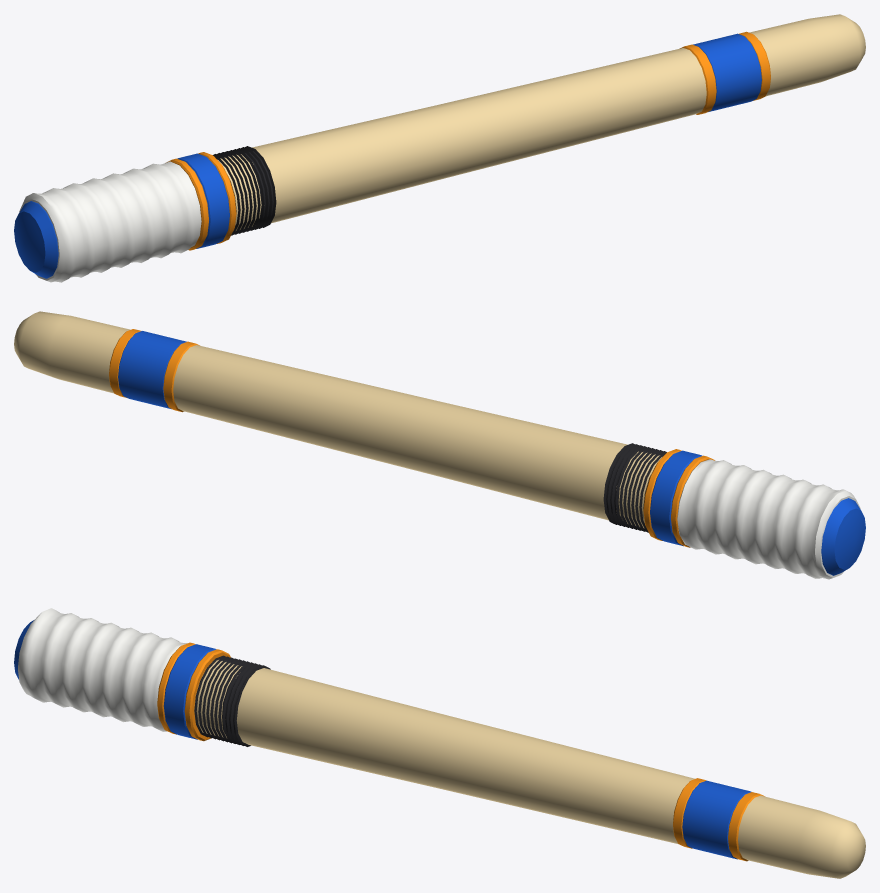
File: danda-cricket.glb
The picture shows the model from 3 angles, top to bottom: view 1: azimuth 30°, elevation 25°; view 2: azimuth 150°, elevation 25°; view 3: azimuth 330°, elevation 25°; orthographic projection.
Visible parts, largest first — view 1: DandaCricket_Willow, DandaCricket_Tape, DandaCricket_Band, DandaCricket_Twine, DandaCricket_Stripe; view 2: DandaCricket_Willow, DandaCricket_Tape, DandaCricket_Band, DandaCricket_Twine, DandaCricket_Stripe; view 3: DandaCricket_Willow, DandaCricket_Tape, DandaCricket_Band, DandaCricket_Twine, DandaCricket_Stripe.
Boxes of the visible parts, <box> form: DandaCricket_Willow: <box>217,14,865,230</box>; DandaCricket_Tape: <box>19,161,201,282</box>; DandaCricket_Band: <box>14,33,761,278</box>; DandaCricket_Twine: <box>213,146,276,235</box>; DandaCricket_Stripe: <box>166,31,770,250</box>; DandaCricket_Willow: <box>14,311,662,528</box>; DandaCricket_Tape: <box>677,459,860,579</box>; DandaCricket_Band: <box>118,331,865,575</box>; DandaCricket_Twine: <box>603,443,666,532</box>; DandaCricket_Stripe: <box>109,329,714,547</box>; DandaCricket_Willow: <box>194,660,865,878</box>; DandaCricket_Tape: <box>18,608,187,731</box>; DandaCricket_Band: <box>14,620,751,859</box>; DandaCricket_Twine: <box>194,655,270,746</box>; DandaCricket_Stripe: <box>157,642,764,861</box>.
Bounding box in the file's own units: 4.6 × 0.4466 × 0.45.
